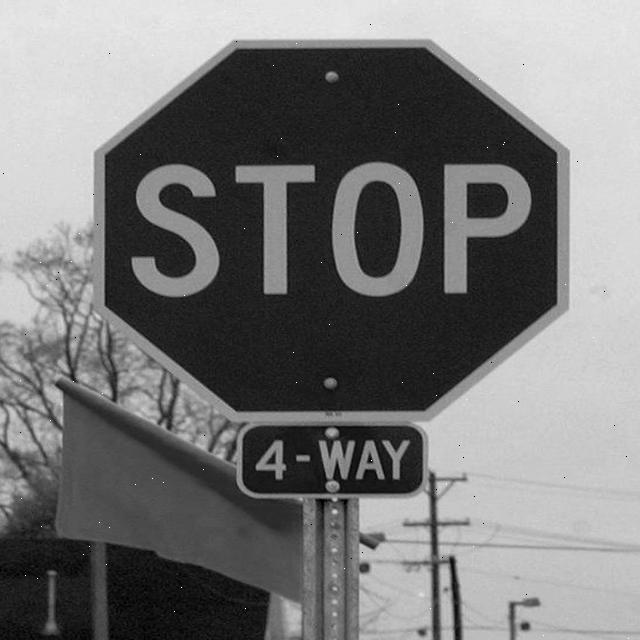Stop-sign: (68, 22, 582, 424)
